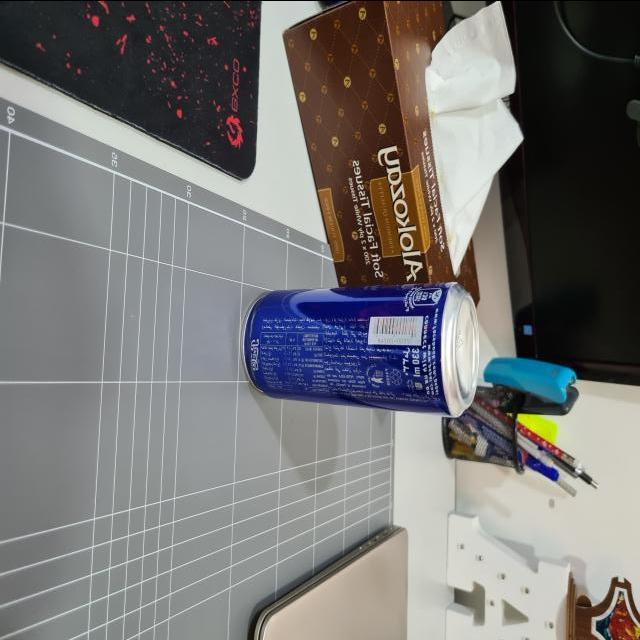can: (237, 277, 483, 418)
